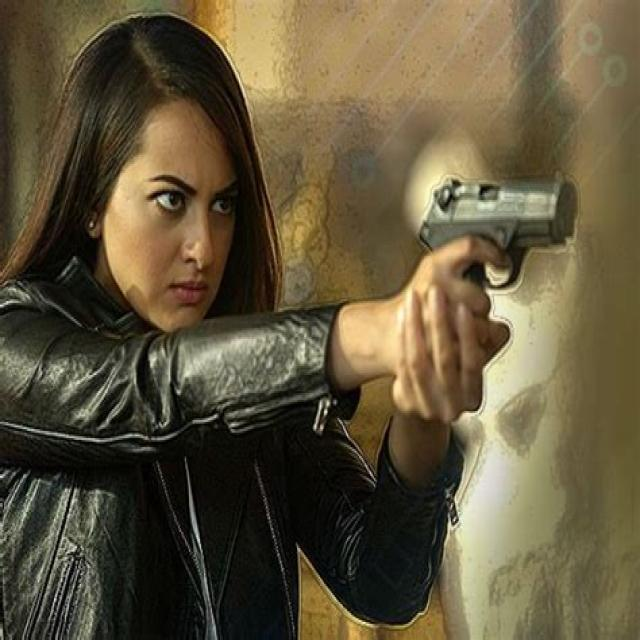weapons: (407, 137, 583, 373)
